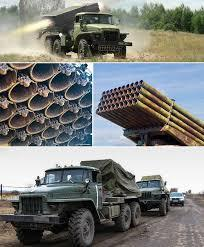MIL_SAM_TEL: (40, 3, 129, 59)
